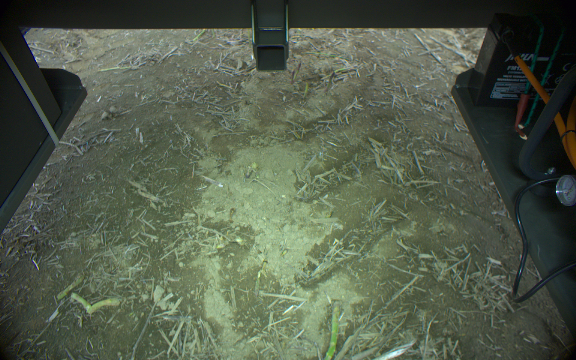aspa: (323, 302, 342, 360), (70, 292, 121, 312), (56, 273, 84, 299), (290, 59, 302, 83), (325, 69, 335, 94), (301, 79, 310, 100)
